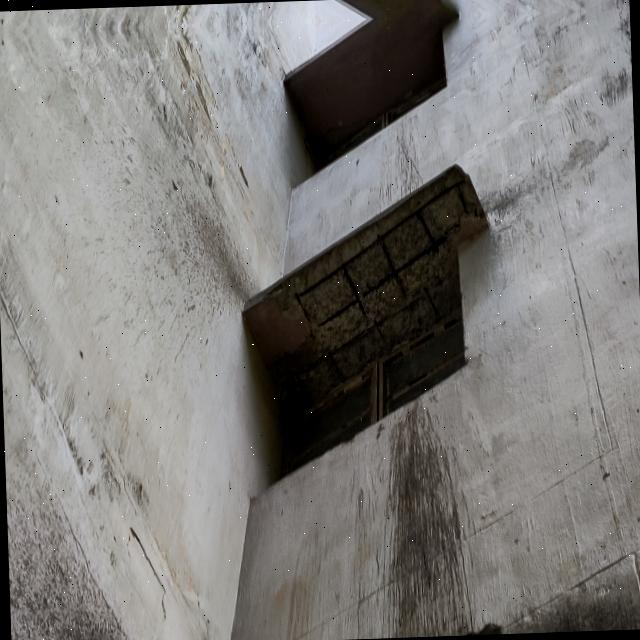spalling: (260, 166, 486, 473)
